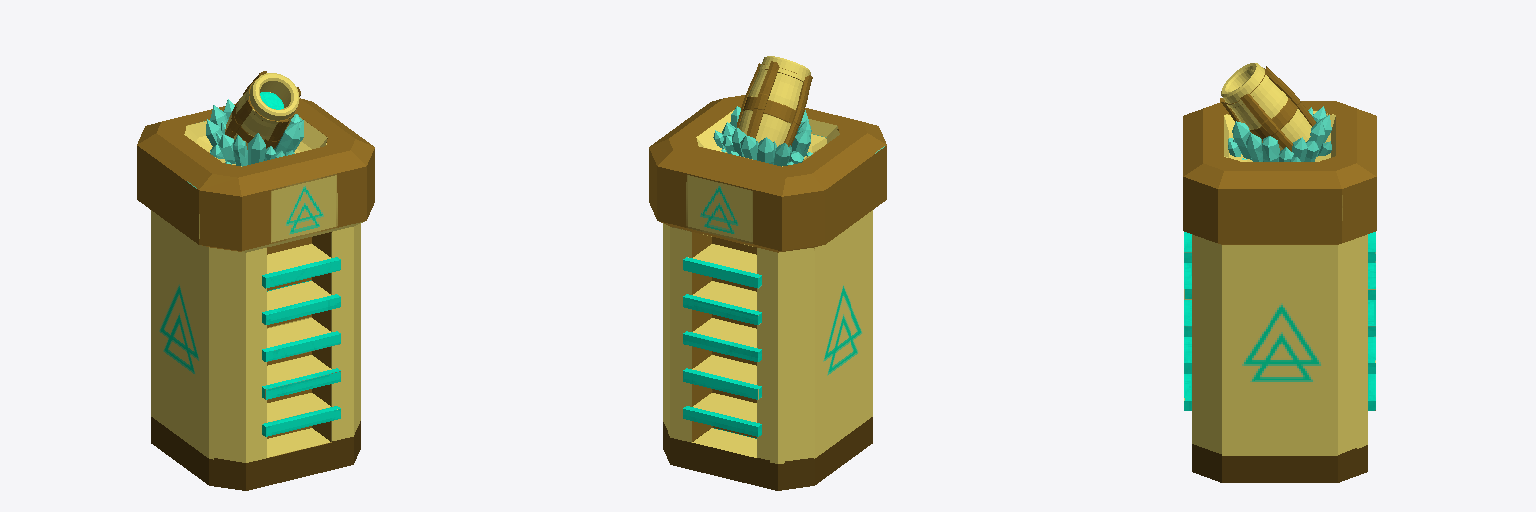
3 views of the same model, side by side, from view 1: azimuth 30°, elevation 25°; view 2: azimuth 150°, elevation 25°; view 3: azimuth 270°, elevation 25° (orthographic).
Parts seen in each view (by area): view 1: drorania_tower; view 2: drorania_tower; view 3: drorania_tower.
Part boxes in pixels (x1,y1,x2,y2): drorania_tower: (137,71,374,490); drorania_tower: (649,56,886,490); drorania_tower: (1183,63,1376,482).
Bounding box in the file's own units: 188 × 386 × 178.
Materials: 1 (1 with a texture image).